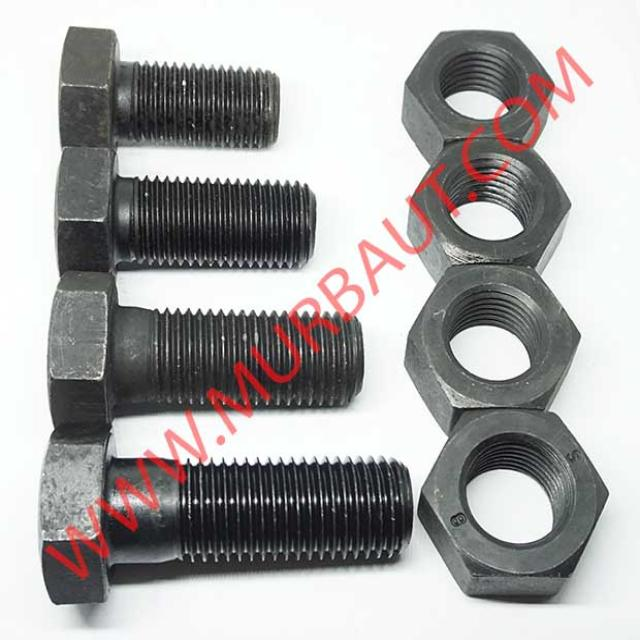Logam: (29, 431, 424, 595), (4, 270, 385, 440), (37, 148, 337, 291), (426, 406, 616, 614), (50, 25, 323, 157), (382, 140, 600, 281), (406, 262, 584, 416), (385, 20, 586, 144)
